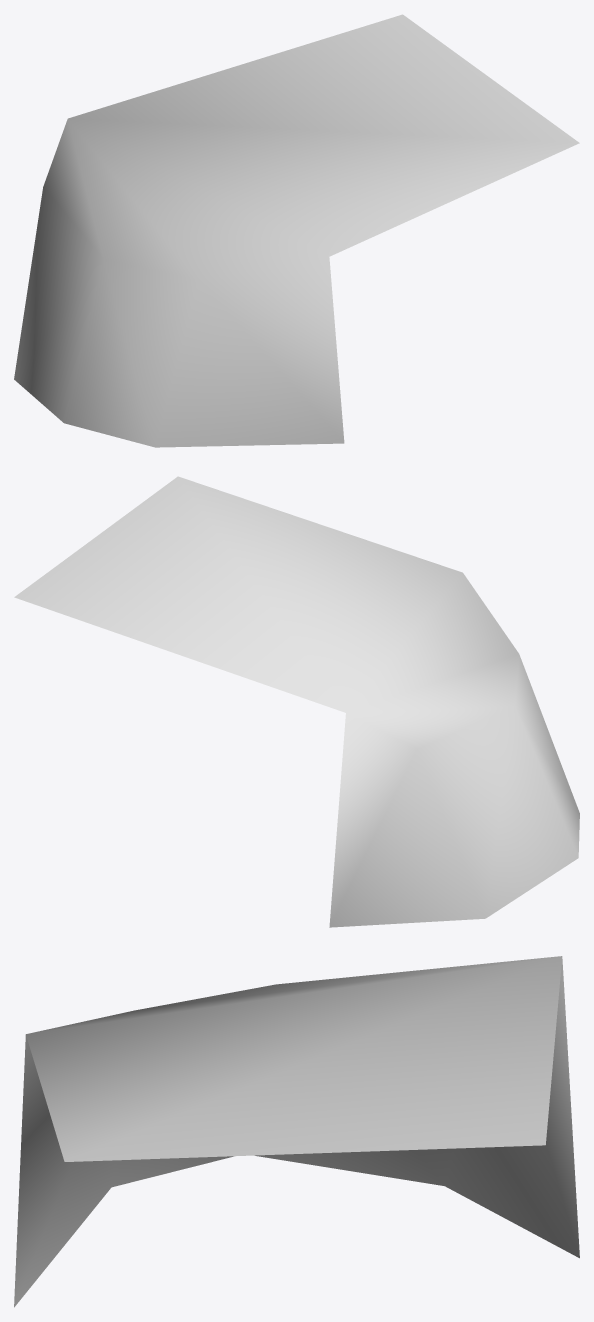
The model's file is xl_liushui_7.FBX.
3 views of the same model, one above another, from view 1: azimuth 30°, elevation 25°; view 2: azimuth 150°, elevation 25°; view 3: azimuth 270°, elevation 25° (orthographic). The views are drawn at different scales.
Visible parts, largest first — view 1: xl_liushui_7; view 2: xl_liushui_7; view 3: xl_liushui_7.
Boxes of the visible parts, x1=… form: xl_liushui_7: x1=14, y1=14, x2=579, y2=447; xl_liushui_7: x1=14, y1=476, x2=579, y2=927; xl_liushui_7: x1=14, y1=956, x2=579, y2=1307.
Bounding box in the file's own units: 3046 × 1513 × 2307.
